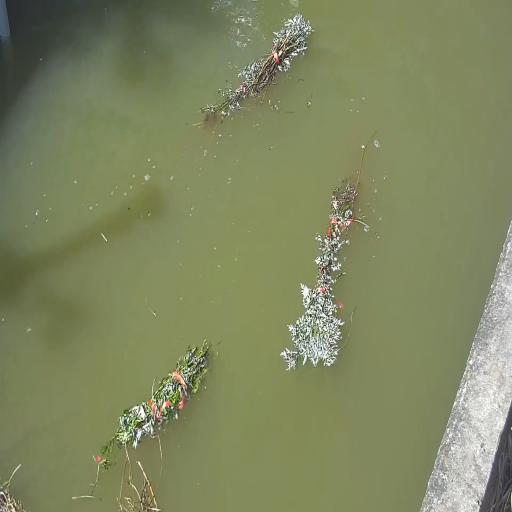twig: (276, 143, 371, 373), (95, 337, 213, 472), (195, 13, 315, 124), (116, 423, 163, 512), (0, 462, 31, 511)
